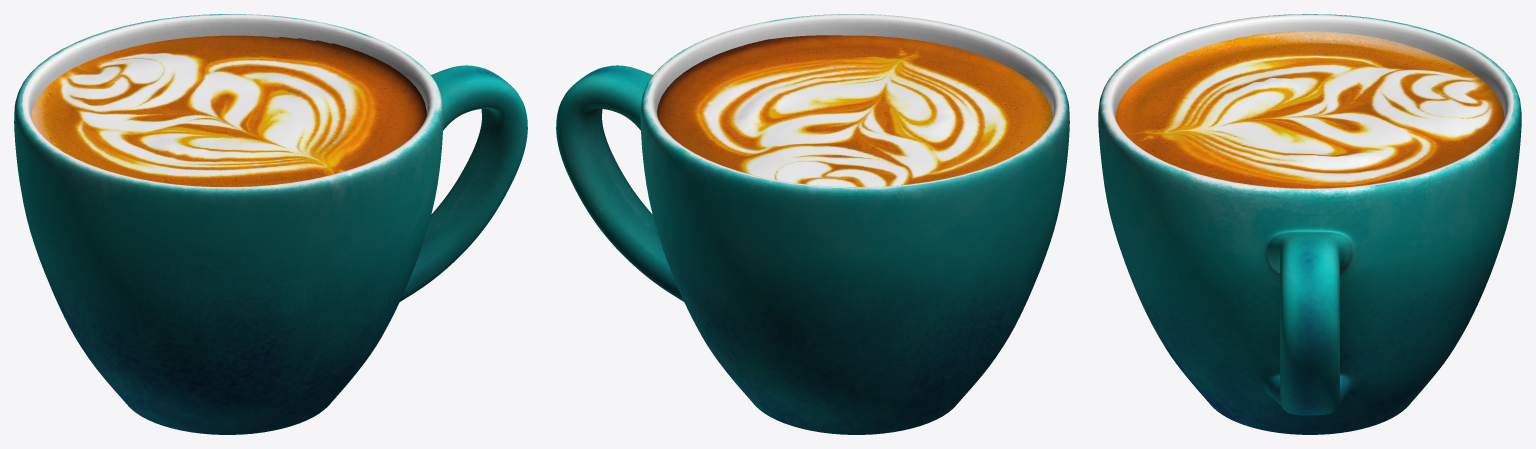
Rendered from cup_only_new.glb.
The picture shows the model from 3 angles, left to right: view 1: azimuth 30°, elevation 25°; view 2: azimuth 150°, elevation 25°; view 3: azimuth 270°, elevation 25°; orthographic projection.
Visible parts, largest first — view 1: Object_7, Object_5; view 2: Object_7, Object_5; view 3: Object_7, Object_5.
Boxes of the visible parts, left/top/right/bottom form: Object_7: left=14, top=14, right=527, bottom=434; Object_5: left=31, top=35, right=426, bottom=186; Object_7: left=556, top=14, right=1069, bottom=434; Object_5: left=657, top=35, right=1052, bottom=186; Object_7: left=1098, top=14, right=1521, bottom=434; Object_5: left=1115, top=31, right=1504, bottom=188.
Bounding box in the file's own units: 0.1227 × 0.071 × 0.0946.
Materials: 2 (2 with a texture image).
